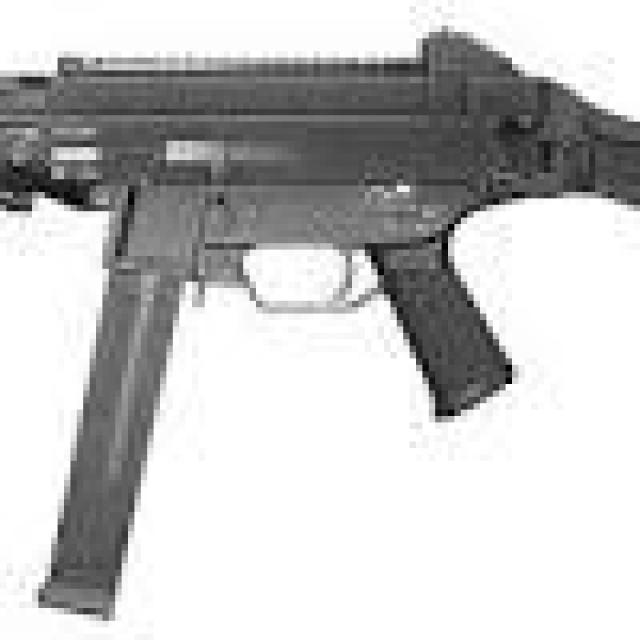Gun: (3, 19, 640, 630)
